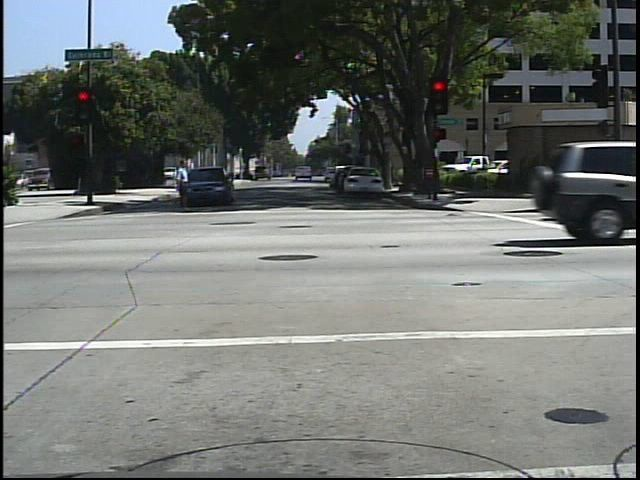person: (588, 143, 619, 210), (167, 156, 195, 213)
